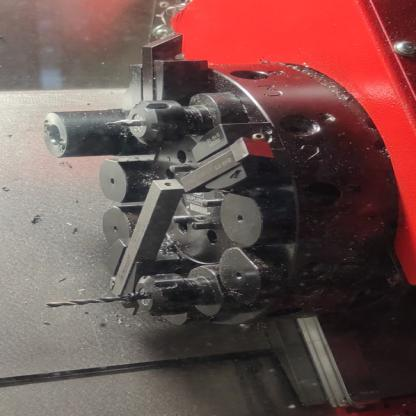bit: (100, 173, 192, 320), (110, 25, 228, 126), (177, 114, 297, 199)
